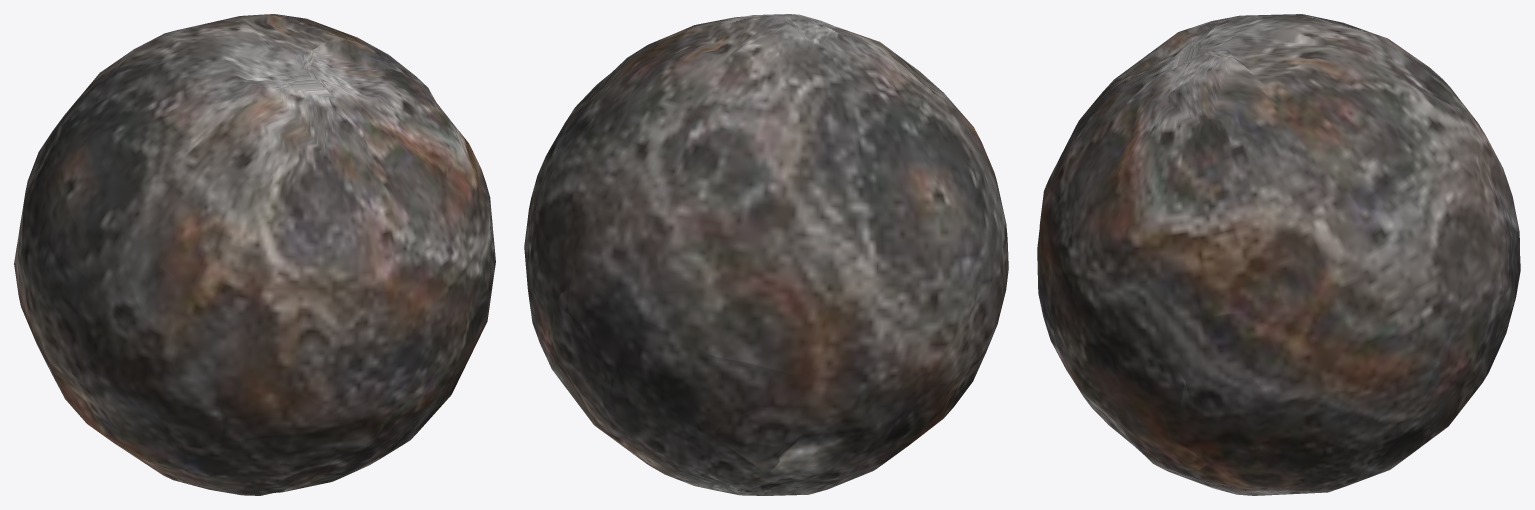
The model's file is planet_10-lod.glb.
The picture shows the model from 3 angles, left to right: view 1: azimuth 30°, elevation 25°; view 2: azimuth 150°, elevation 25°; view 3: azimuth 270°, elevation 25°; orthographic projection.
Visible parts, largest first — view 1: Mesh_0.001; view 2: Mesh_0.001; view 3: Mesh_0.001.
Part boxes in pixels (left/top/right/bottom): Mesh_0.001: left=14, top=14, right=495, bottom=495; Mesh_0.001: left=524, top=14, right=1008, bottom=495; Mesh_0.001: left=1037, top=14, right=1520, bottom=495.
Bounding box in the file's own units: 1.9 × 1.9 × 1.9.
Materials: 1 (1 with a texture image).
